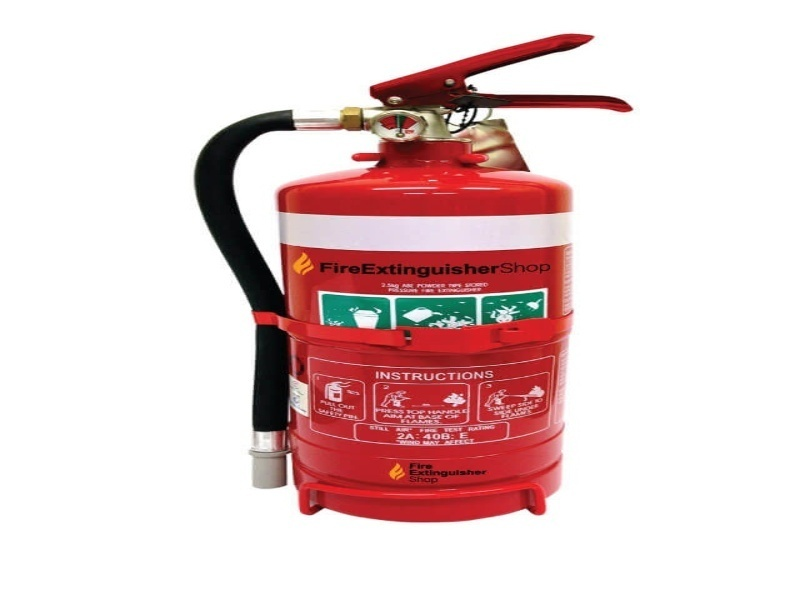fire_extinguisher: (179, 31, 635, 529)
